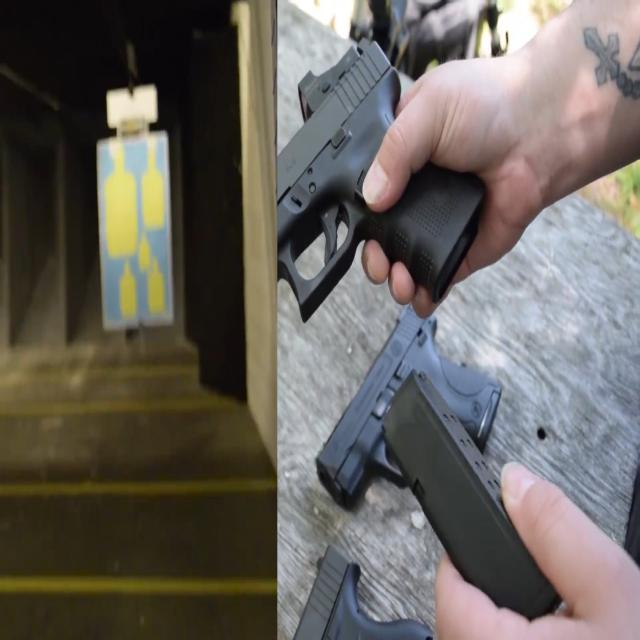handgun: (248, 8, 494, 329), (300, 311, 513, 489)
